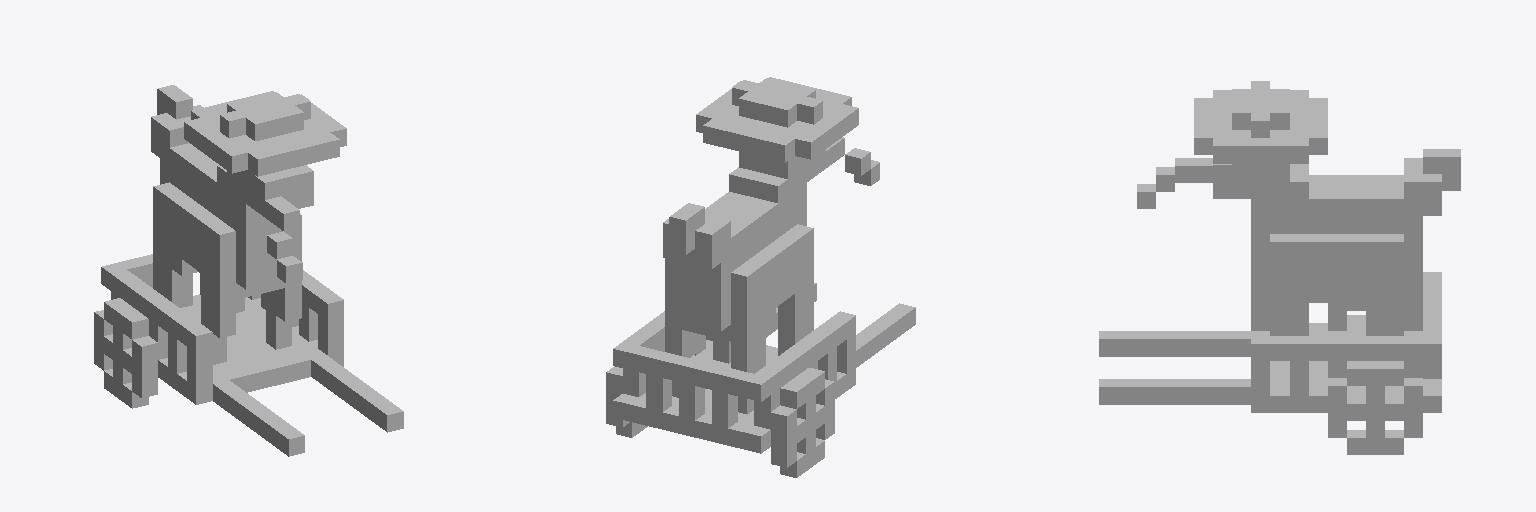
The model's file is Farm_llama.obj.
The picture shows the model from 3 angles: view 1: azimuth 30°, elevation 25°; view 2: azimuth 150°, elevation 25°; view 3: azimuth 270°, elevation 25°; orthographic projection.
Size of the model in its own units: 11 by 18 by 19.